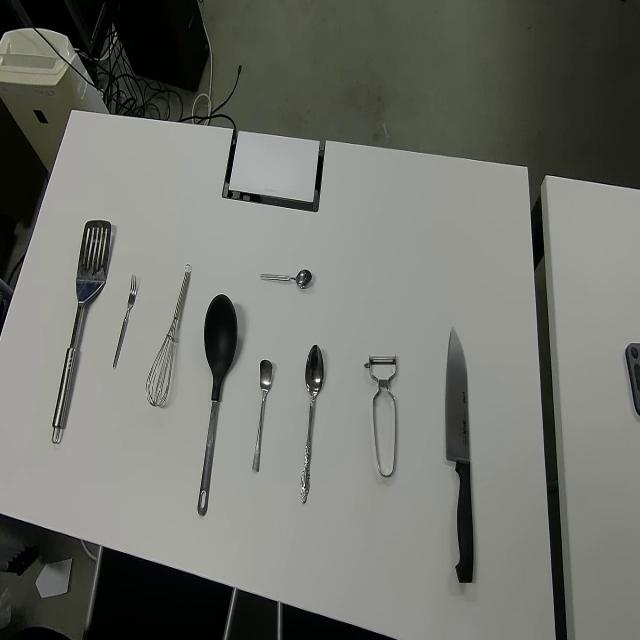Desert-Spoon: (299, 342, 323, 504)
Dinner-Fork: (112, 274, 139, 372)
Kitchen-Knife: (443, 323, 474, 586)
Peeler: (362, 354, 397, 480)
Serving-Spoon: (50, 220, 111, 448), (198, 292, 238, 518)
Tea-Spoon: (252, 358, 273, 473), (260, 267, 313, 291)
Whisk: (144, 263, 191, 410)
